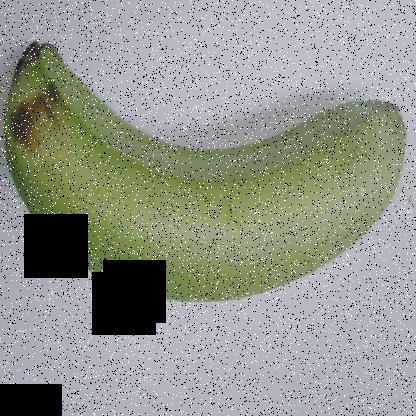freshunripe: (0, 19, 411, 329)
